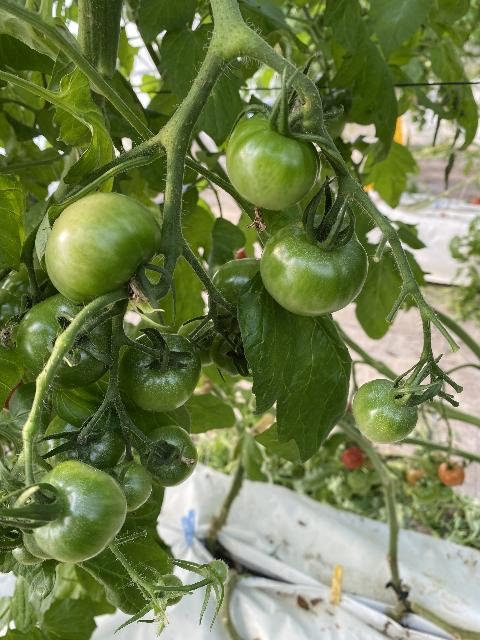l_green: (45, 193, 162, 306), (260, 215, 368, 317), (28, 459, 127, 563), (226, 113, 321, 212), (16, 294, 113, 390), (119, 331, 202, 412), (44, 415, 126, 472), (351, 378, 418, 444), (1, 268, 62, 334), (209, 258, 261, 335), (140, 425, 199, 487), (107, 461, 152, 512), (177, 316, 219, 367), (210, 329, 251, 376), (23, 515, 57, 560), (10, 528, 44, 565), (156, 575, 185, 607), (206, 559, 228, 586)
